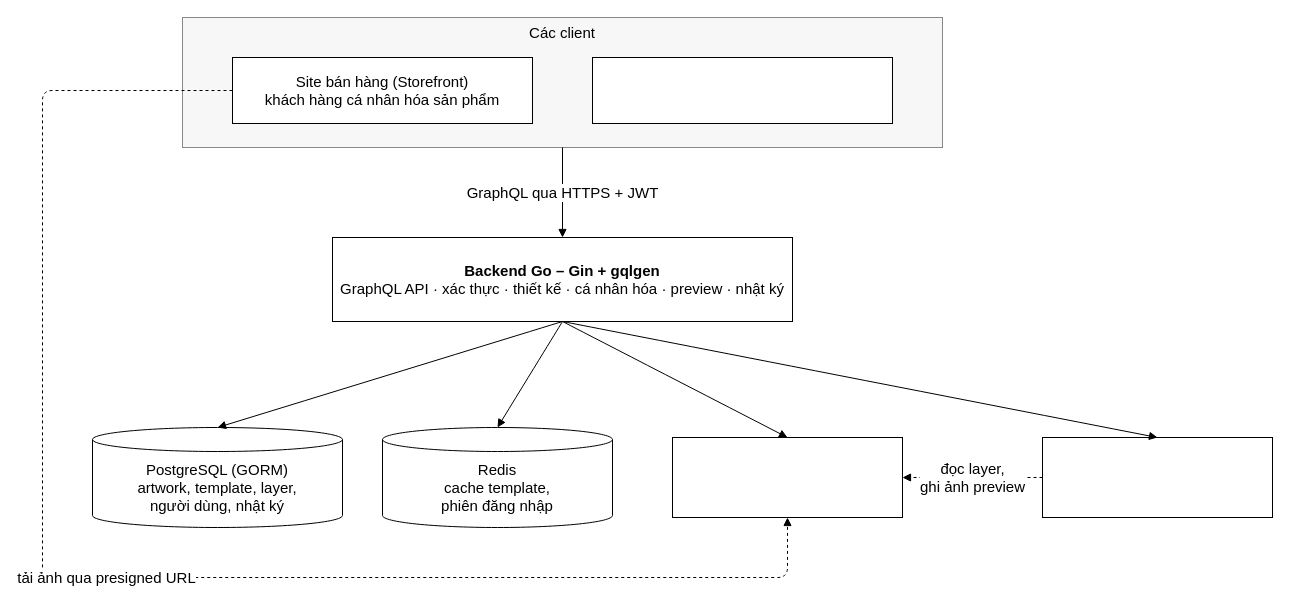
This 1290x604 diagram has some shape labels left out. Each missing label, with the box of its shape:
AWS Lambda render ảnh preview: (1042, 436, 1272, 518)
AWS S3 artwork, ảnh tải lên, ảnh preview: (672, 436, 902, 518)
Site quản lý (Admin) Admin · Manager/Operator: (592, 56, 892, 124)
